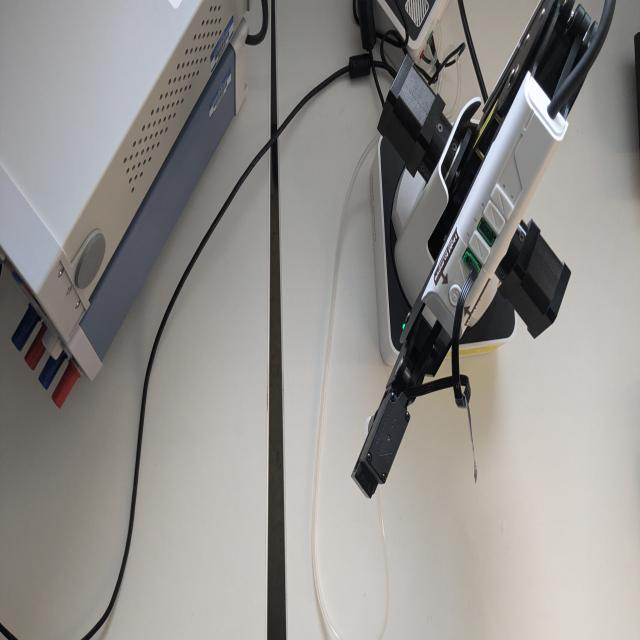Robot-end-effector-HF8z: (348, 381, 414, 502)
